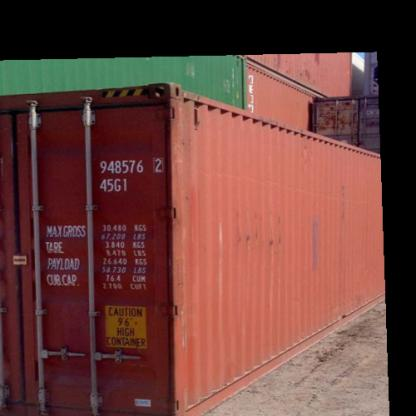Damage: (156, 81, 190, 334)
